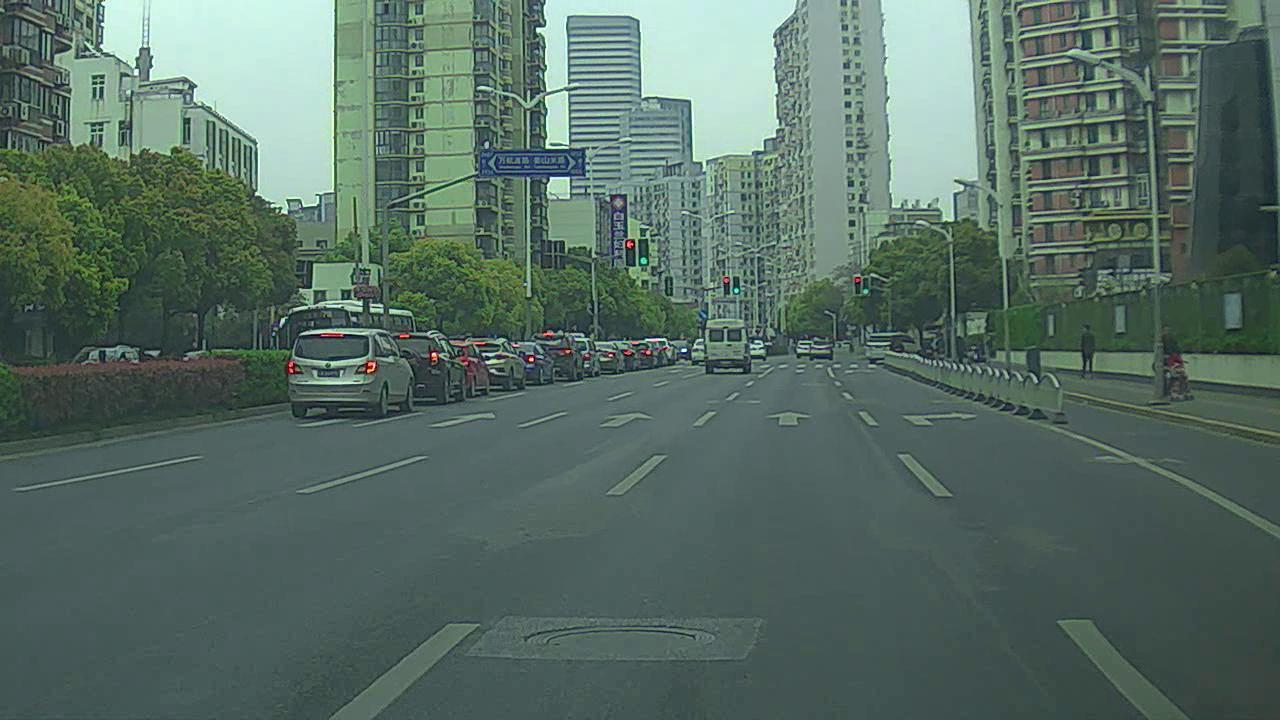traffic_light: (639, 239, 653, 266), (623, 239, 636, 268), (852, 275, 863, 295), (862, 276, 871, 296), (723, 276, 731, 296), (733, 275, 740, 295)
